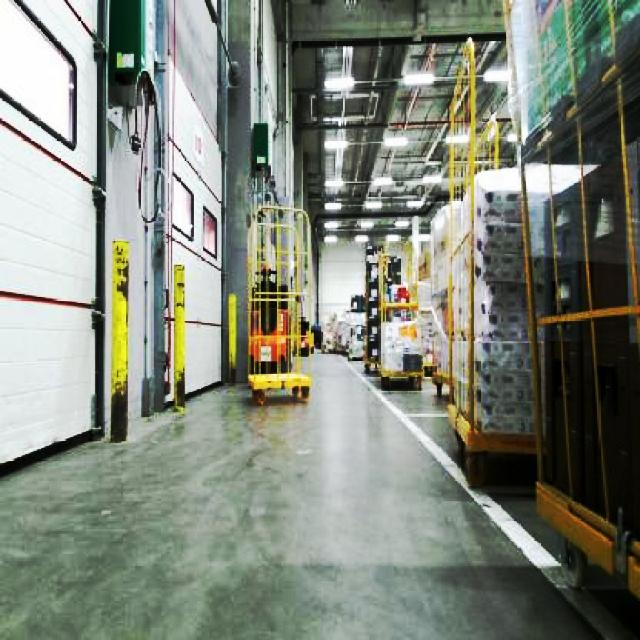ground: (0, 345, 638, 638)
pallet: (505, 0, 638, 638), (428, 35, 545, 488), (245, 203, 314, 405), (362, 243, 423, 389), (246, 305, 311, 405), (377, 300, 423, 389), (362, 243, 382, 372), (246, 371, 311, 405)
